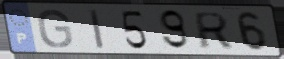5: (119, 9, 150, 50)
6: (236, 10, 270, 53)
9: (157, 9, 191, 52)
G: (36, 8, 75, 50)
I: (88, 8, 107, 51)
R: (194, 11, 234, 51)
